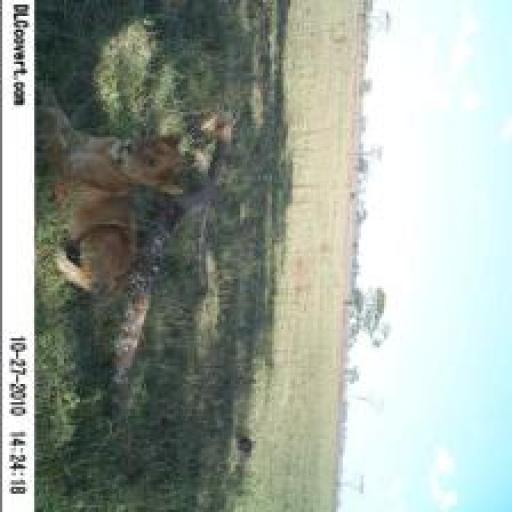lion: (34, 60, 199, 313)
